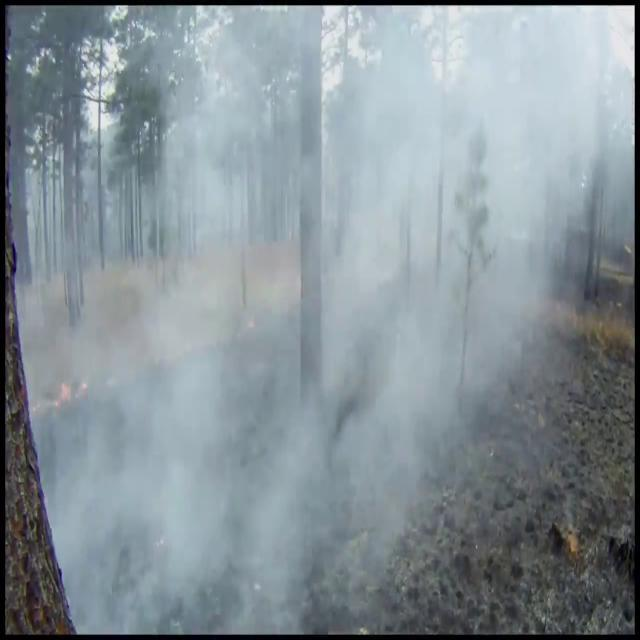Smoke: (12, 0, 615, 627)
